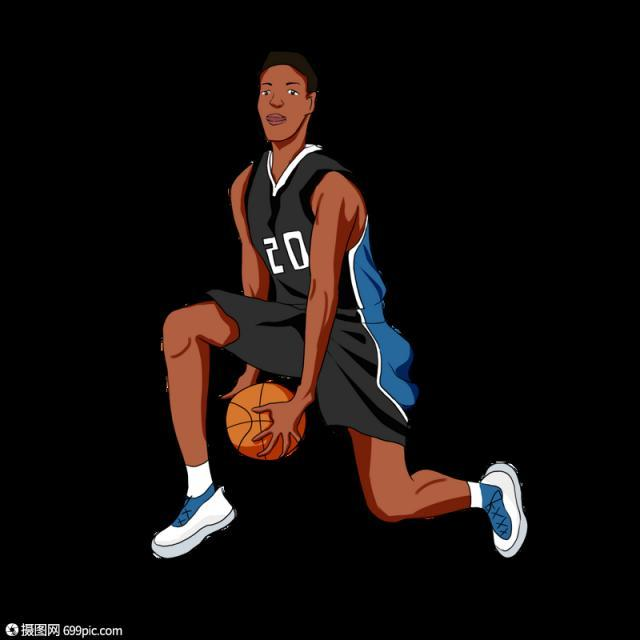rim: (227, 381, 308, 460)
